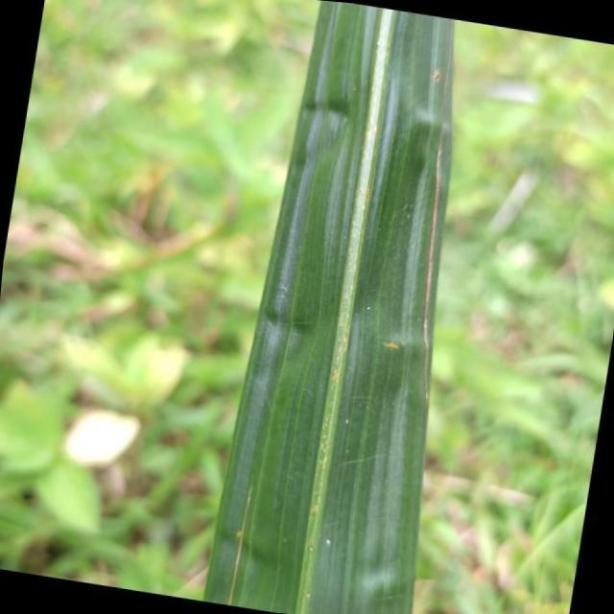Boron: (203, 0, 454, 614)
